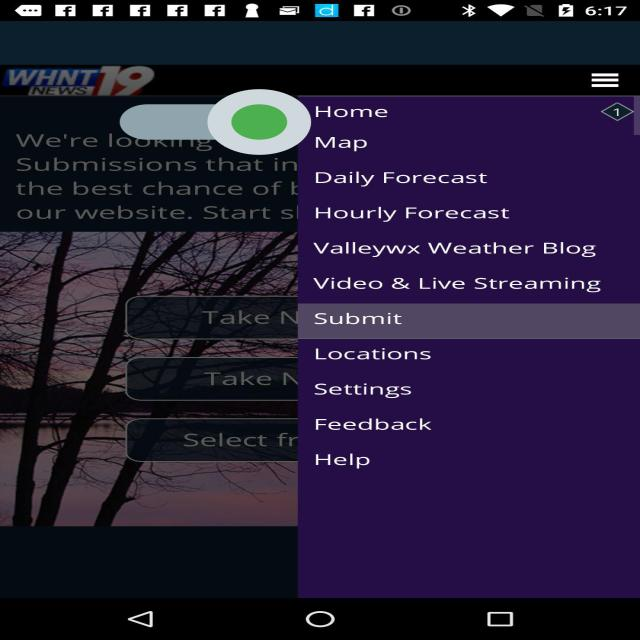social proof: (120, 61, 311, 183)
